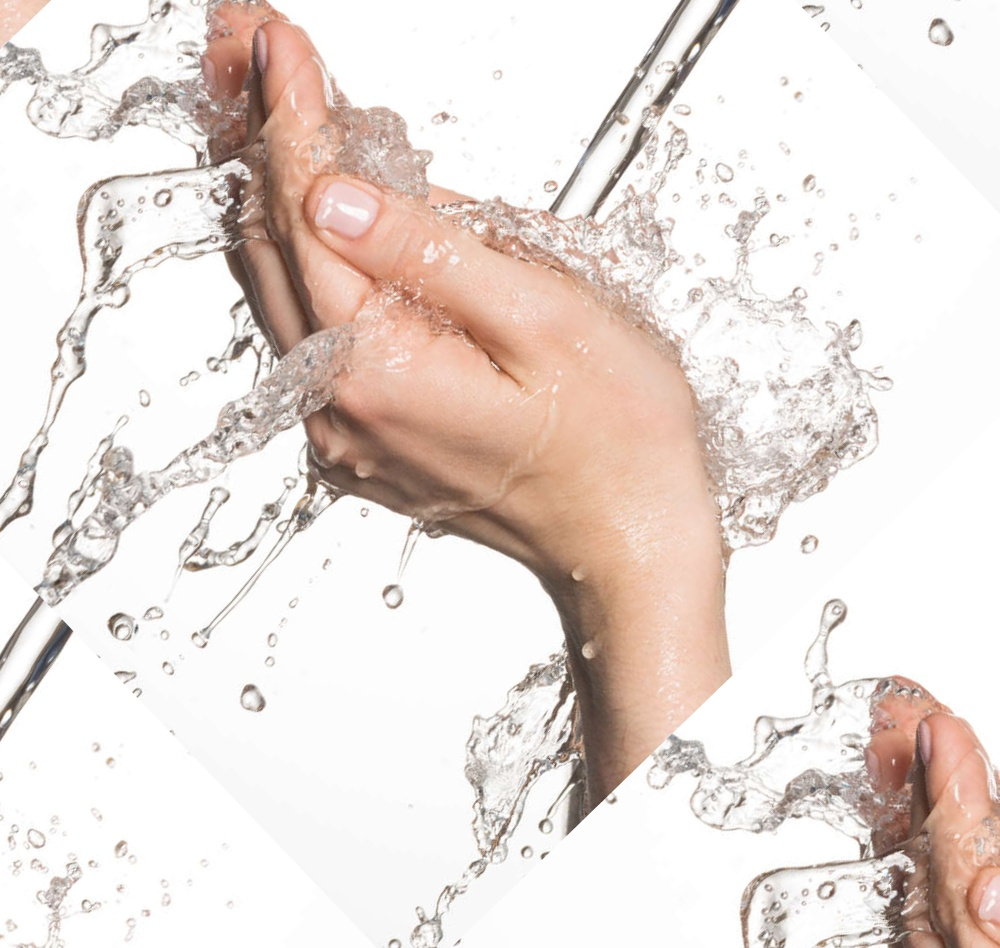washing hand: (0, 0, 999, 908)
